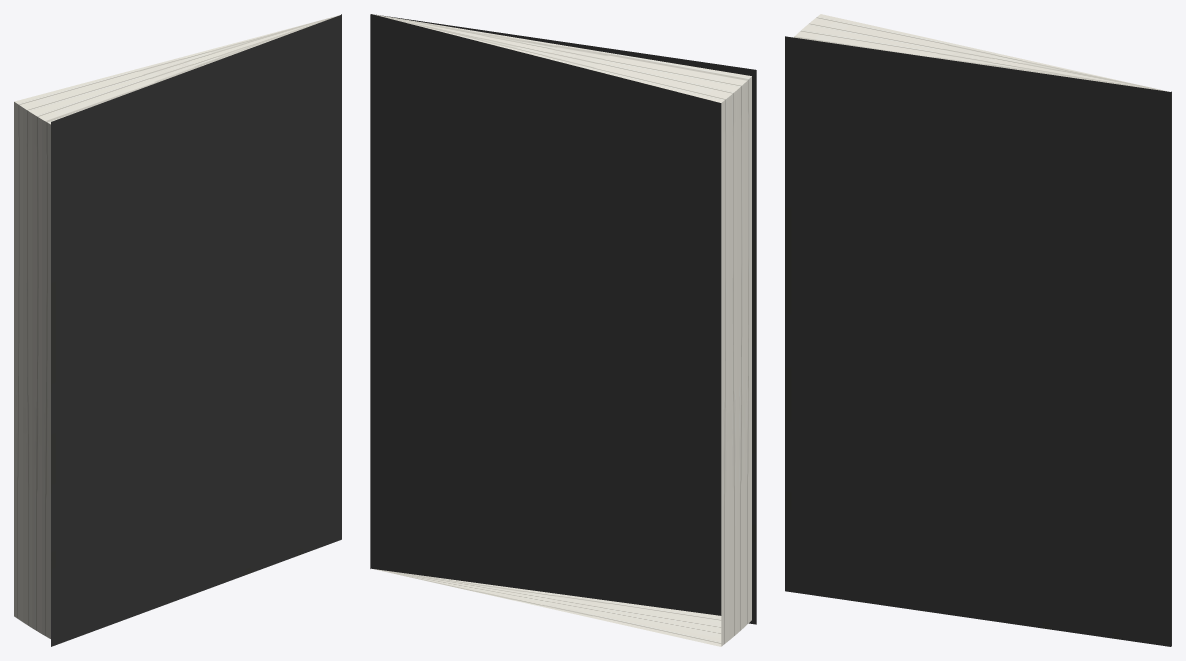
The model's file is book-transformed.glb.
3 views of the same model, side by side, from view 1: azimuth 30°, elevation 25°; view 2: azimuth 150°, elevation 25°; view 3: azimuth 330°, elevation 25° (orthographic). The views are drawn at different scales.
Parts seen in each view (by area): view 1: Plane; view 2: Plane; view 3: Plane.
Part boxes in pixels (left/top/right/bottom): Plane: left=14, top=14, right=341, bottom=646; Plane: left=370, top=14, right=756, bottom=646; Plane: left=785, top=14, right=1171, bottom=646.
Size of the model in its own units: 1.74 by 2.65 by 0.3474.
1 material, 1 textured.
